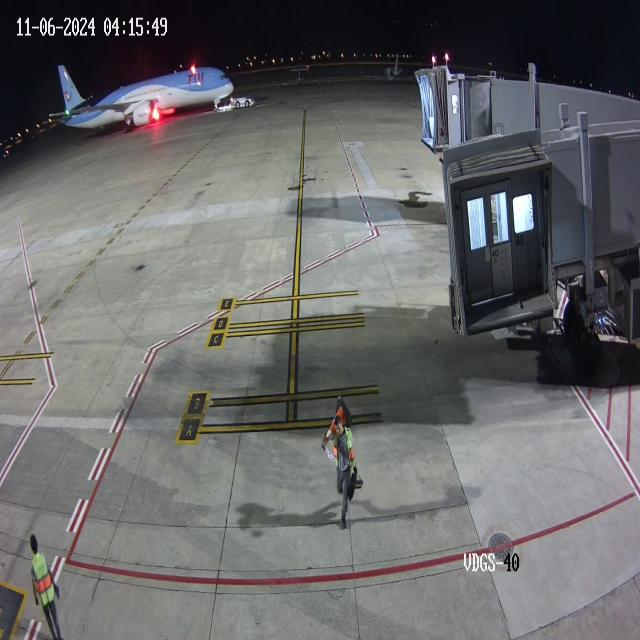bridge: (435, 63, 492, 152)
plane: (51, 4, 257, 141)
window: (218, 71, 231, 82)
